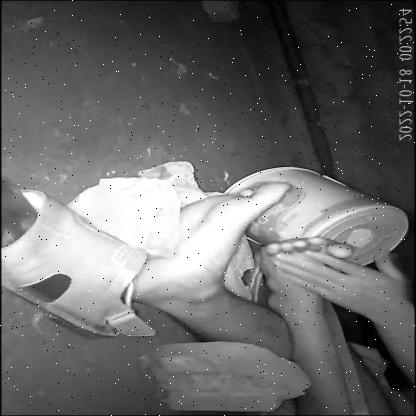hand: (269, 248, 416, 383)
leg: (137, 176, 296, 342), (256, 228, 368, 415)
